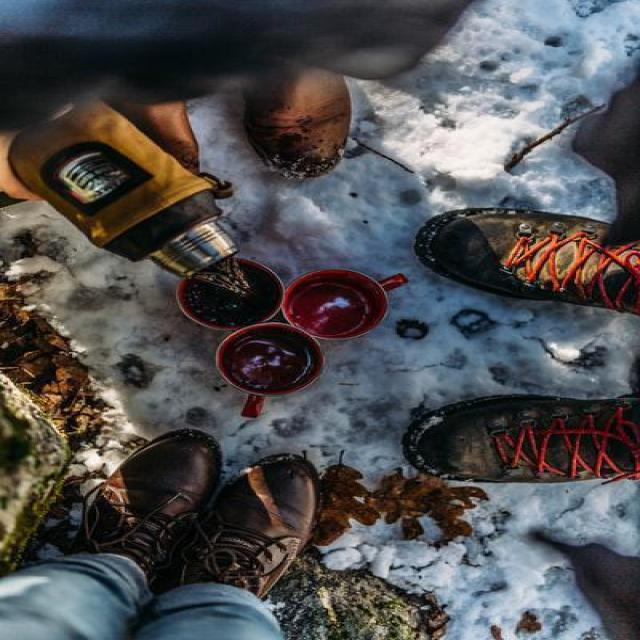Vest: (416, 205, 638, 312), (403, 394, 637, 483), (76, 428, 222, 570), (173, 451, 320, 591), (246, 73, 354, 178)
